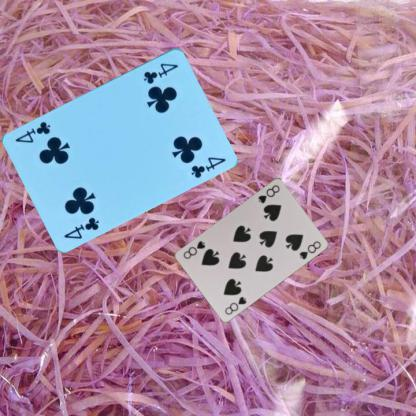4c: (61, 214, 101, 240), (140, 60, 180, 85)
8s: (256, 182, 282, 205), (222, 294, 248, 316)
